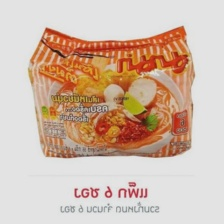snack: (21, 19, 202, 166)
